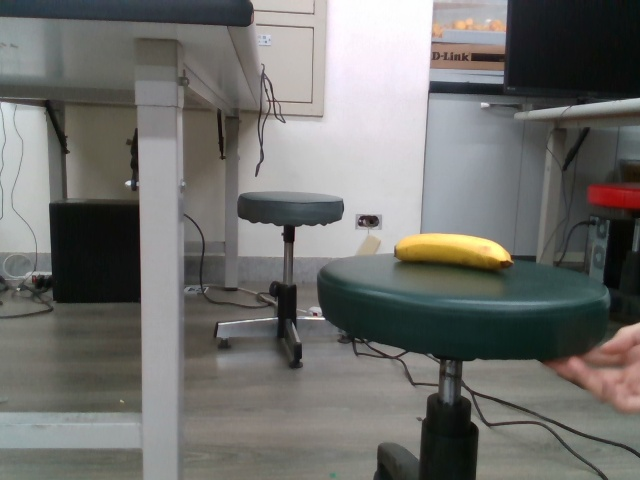banana: (388, 229, 516, 273)
